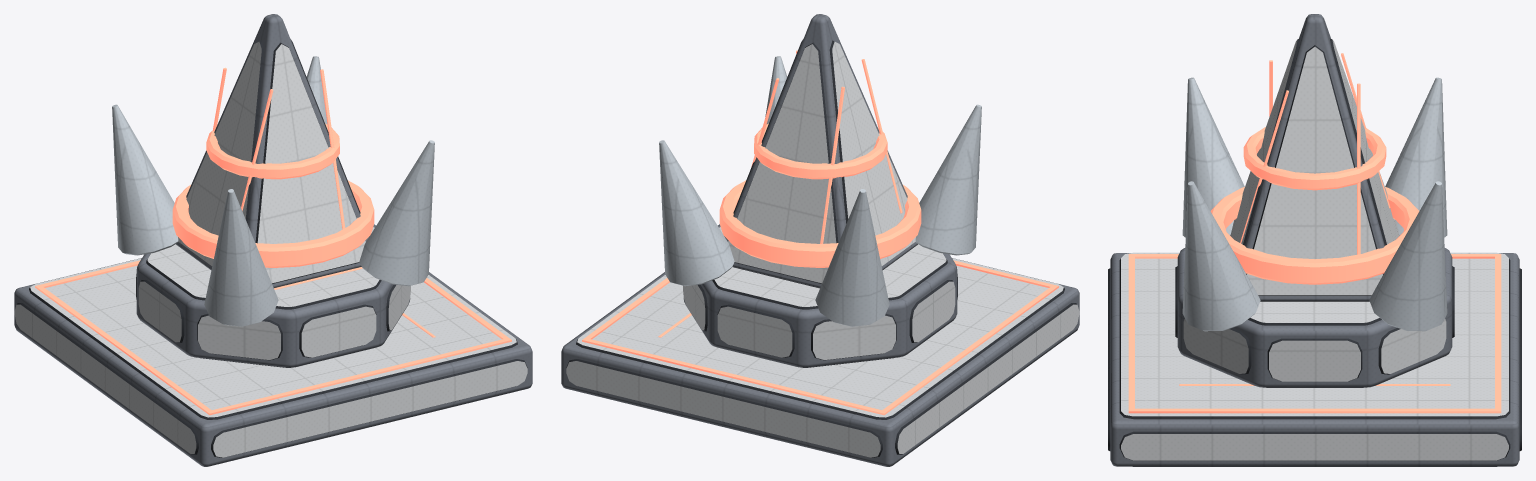
The model's file is R4X_DamageBooster.glb.
The picture shows the model from 3 angles, left to right: view 1: azimuth 30°, elevation 25°; view 2: azimuth 150°, elevation 25°; view 3: azimuth 270°, elevation 25°; orthographic projection. The views are drawn at different scales.
Visible parts, largest first — view 1: R4X_DamageBooster_Body; view 2: R4X_DamageBooster_Body; view 3: R4X_DamageBooster_Body.
Boxes of the visible parts, x1=… form: R4X_DamageBooster_Body: x1=14, y1=14, x2=532, y2=466; R4X_DamageBooster_Body: x1=561, y1=14, x2=1079, y2=466; R4X_DamageBooster_Body: x1=1108, y1=14, x2=1521, y2=466.
Size of the model in its own units: 0.52 by 0.512 by 0.52.
Materials: 5 (4 with a texture image).
